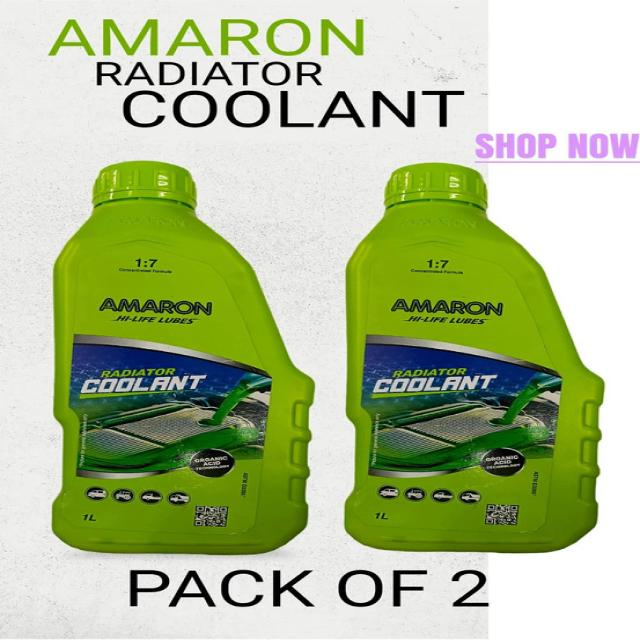coolant: (41, 156, 313, 558), (340, 158, 610, 557)
